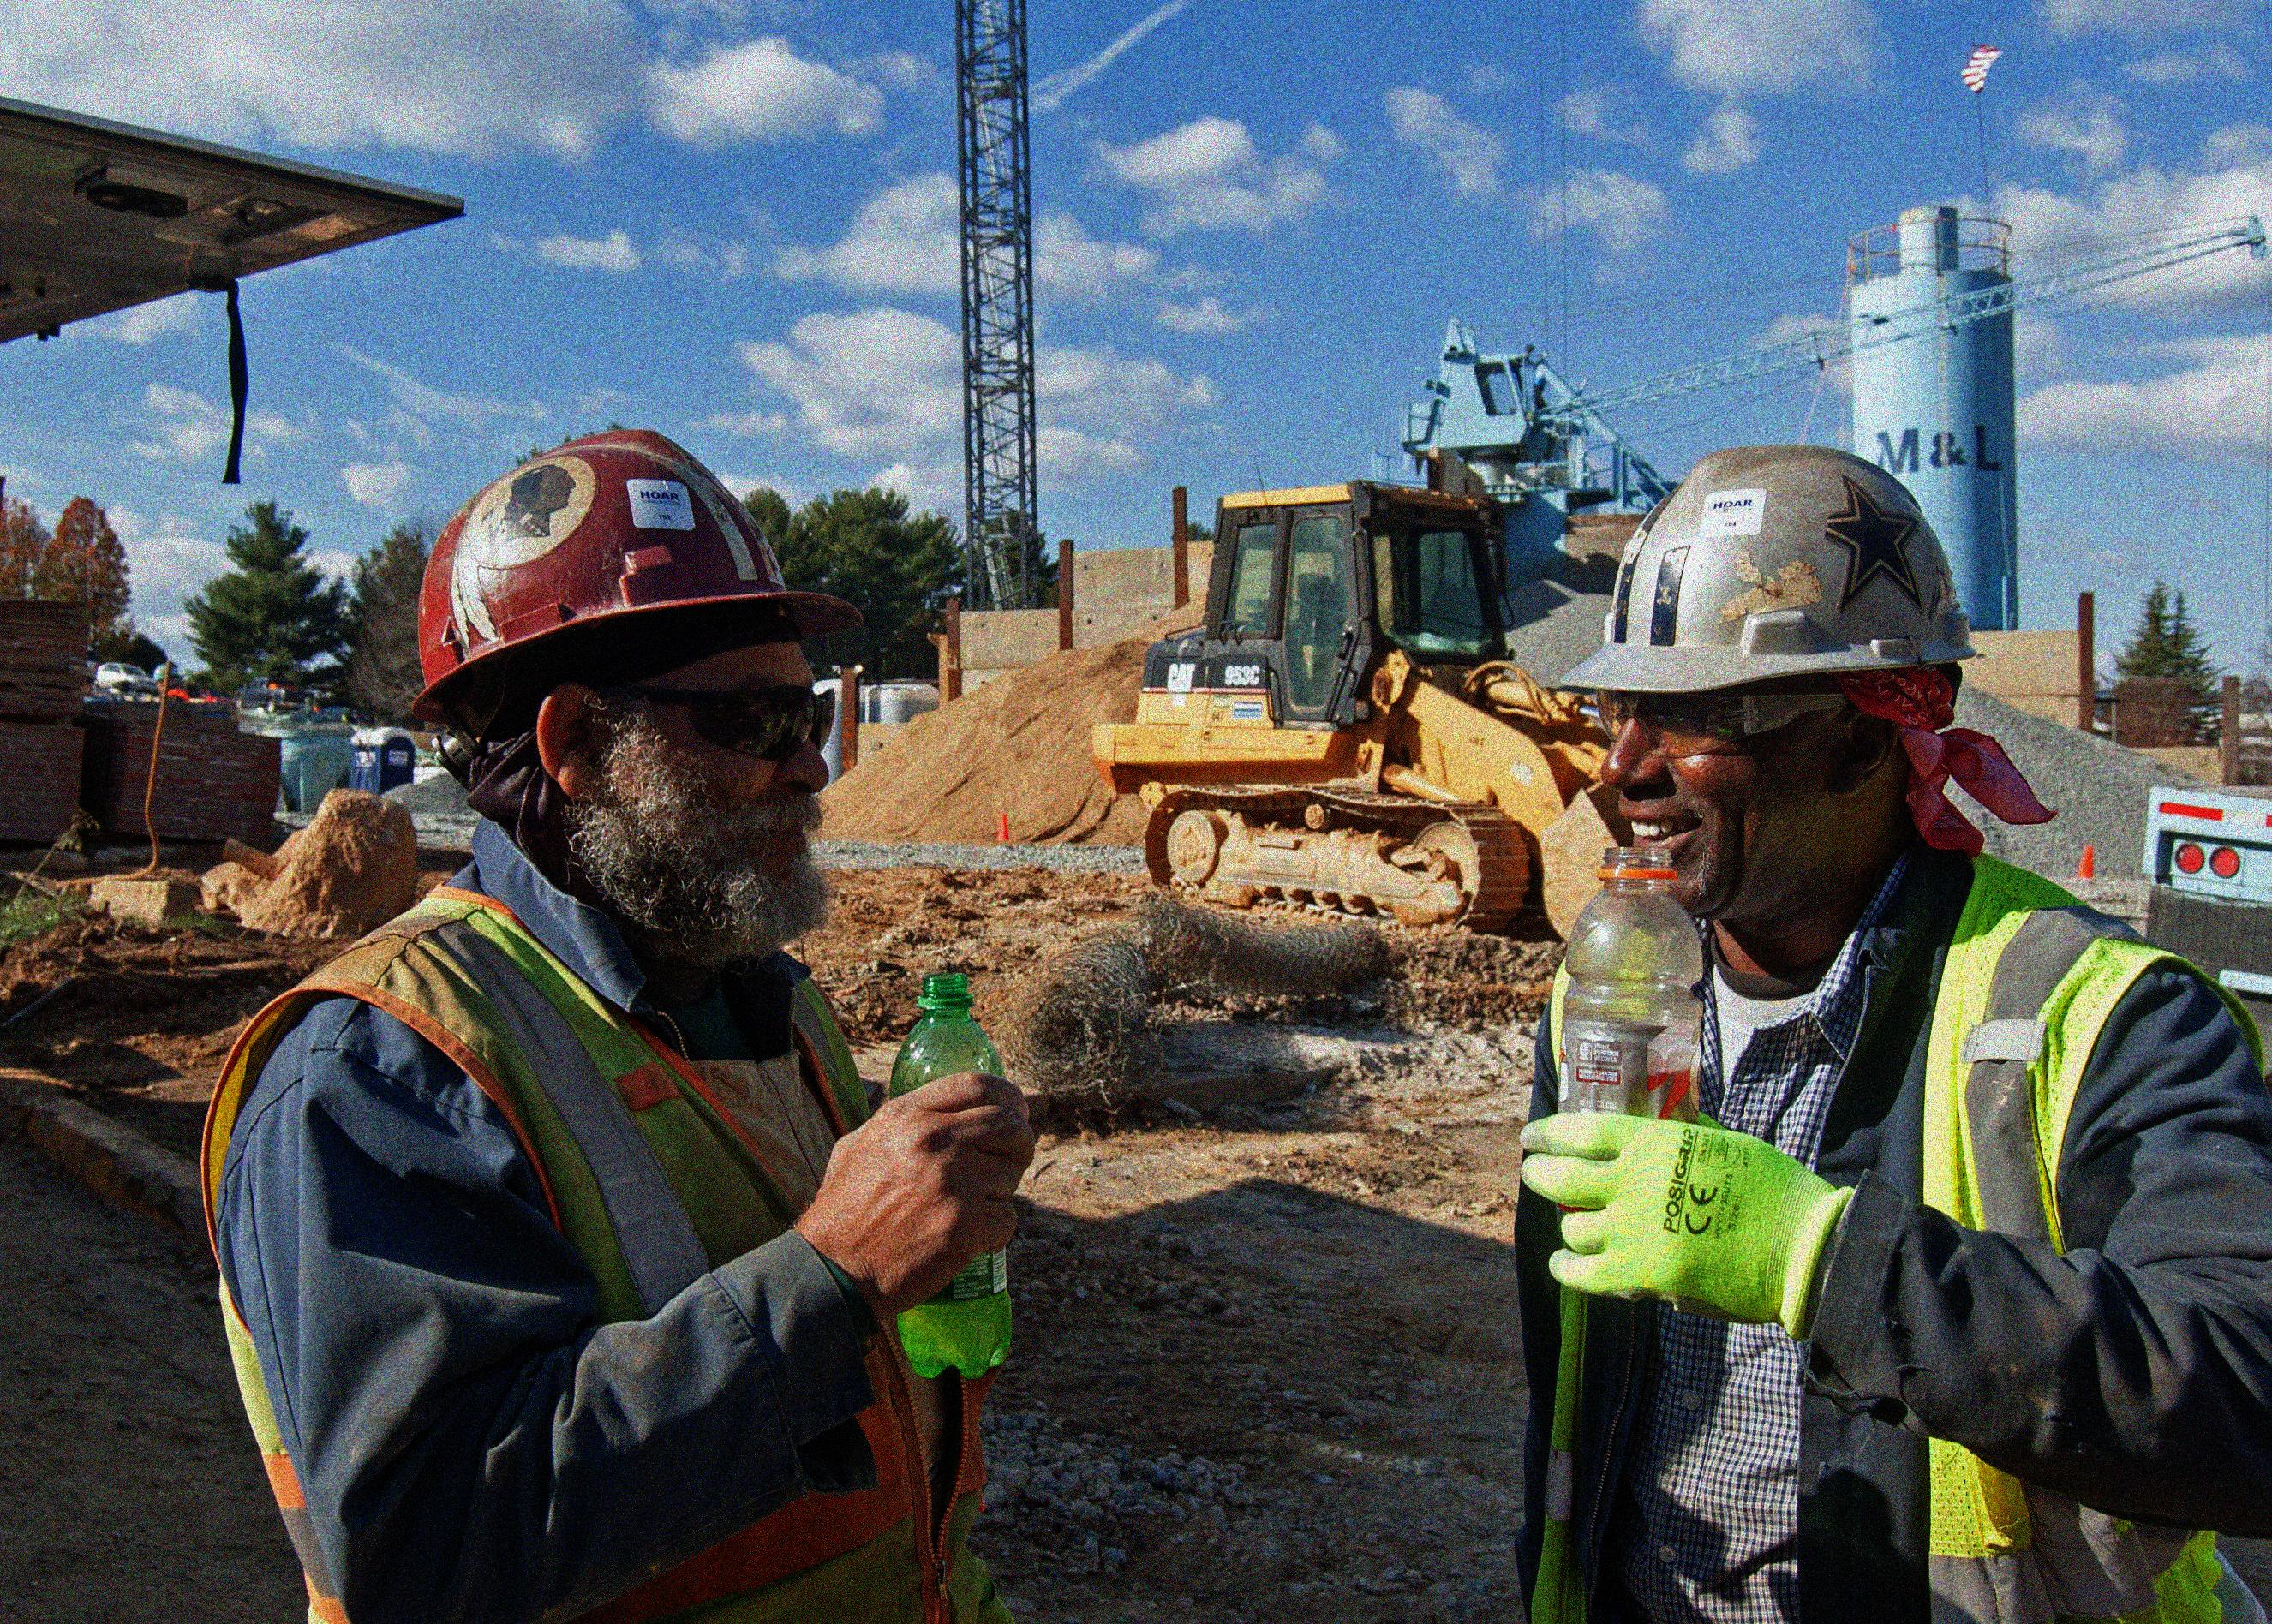helmet: (387, 420, 873, 951), (1550, 436, 1984, 937)
